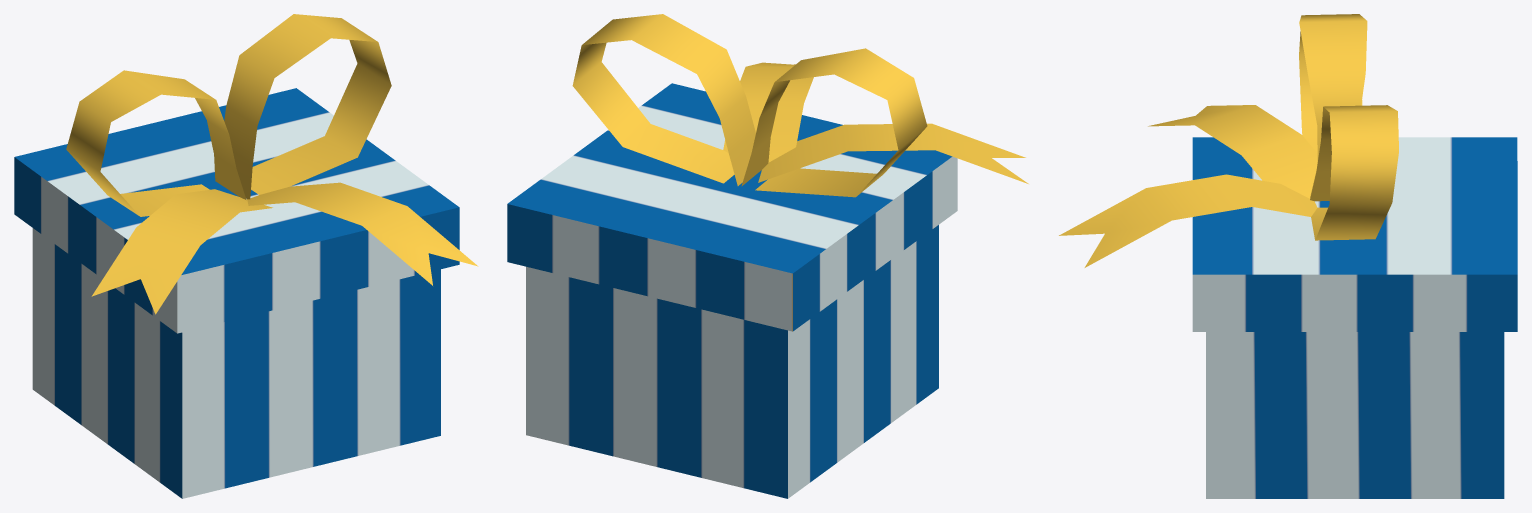
The model's file is Present03.glb.
3 views of the same model, side by side, from view 1: azimuth 30°, elevation 25°; view 2: azimuth 150°, elevation 25°; view 3: azimuth 270°, elevation 25° (orthographic).
Visible parts, largest first — view 1: Present03; view 2: Present03; view 3: Present03.
Boxes of the visible parts, bbox=[...] form: Present03: bbox=[14, 14, 478, 498]; Present03: bbox=[507, 14, 1028, 498]; Present03: bbox=[1059, 14, 1517, 498].
Bounding box in the file's own units: 1.45 × 1.39 × 1.6.
1 material, 1 textured.
